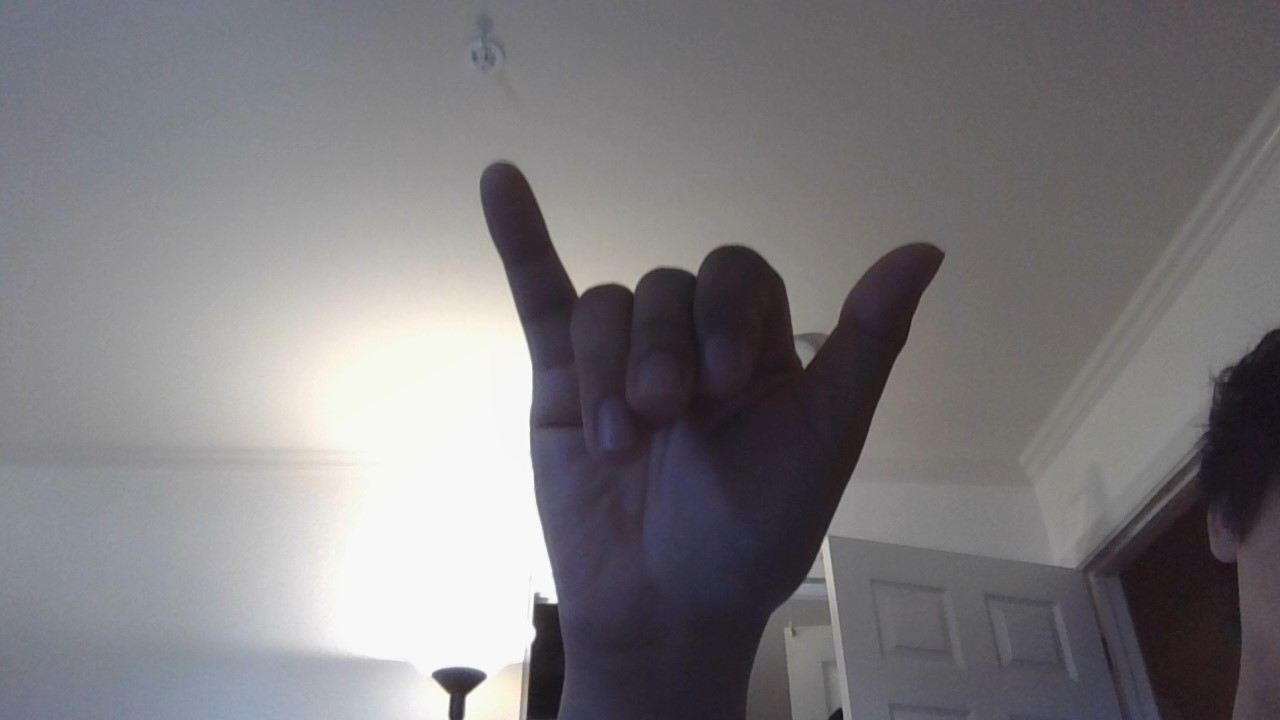y: (391, 140, 991, 639)
